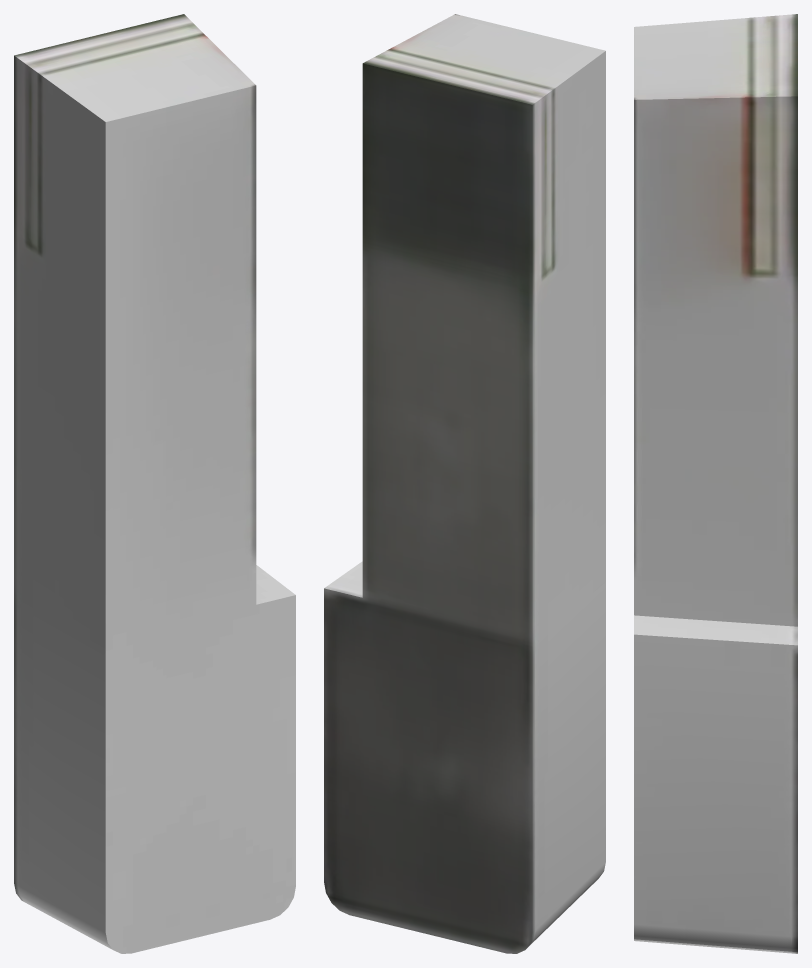
Rendered from white_key_3_part__white_key.glb.
The picture shows the model from 3 angles, left to right: view 1: azimuth 30°, elevation 25°; view 2: azimuth 150°, elevation 25°; view 3: azimuth 270°, elevation 25°; orthographic projection.
Visible parts, largest first — view 1: geometry_0; view 2: geometry_0; view 3: geometry_0.
Boxes of the visible parts, <box> form: geometry_0: <box>14,14,295,953</box>; geometry_0: <box>324,14,605,953</box>; geometry_0: <box>634,14,797,953</box>.
Bounding box in the file's own units: 0.0204 × 0.08 × 0.014.
Materials: 1 (1 with a texture image).
